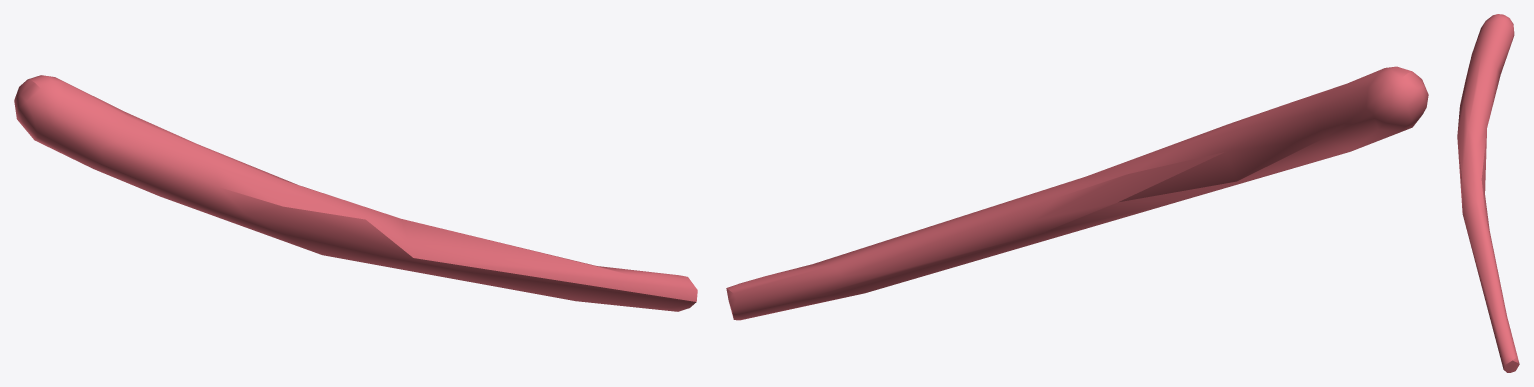
The model's file is fma9450_fj2953.glb.
3 renders of one model, left to right at view 1: azimuth 30°, elevation 25°; view 2: azimuth 150°, elevation 25°; view 3: azimuth 270°, elevation 25°, orthographic. The views are drawn at different scales.
Visible parts, largest first — view 1: FMA9450_FJ2953; view 2: FMA9450_FJ2953; view 3: FMA9450_FJ2953.
Part boxes in pixels (left/top/right/bottom): FMA9450_FJ2953: left=14, top=75, right=697, bottom=311; FMA9450_FJ2953: left=726, top=66, right=1428, bottom=320; FMA9450_FJ2953: left=1457, top=14, right=1519, bottom=372.
Size of the model in its own units: 0.0443 by 0.0246 by 0.00698.
